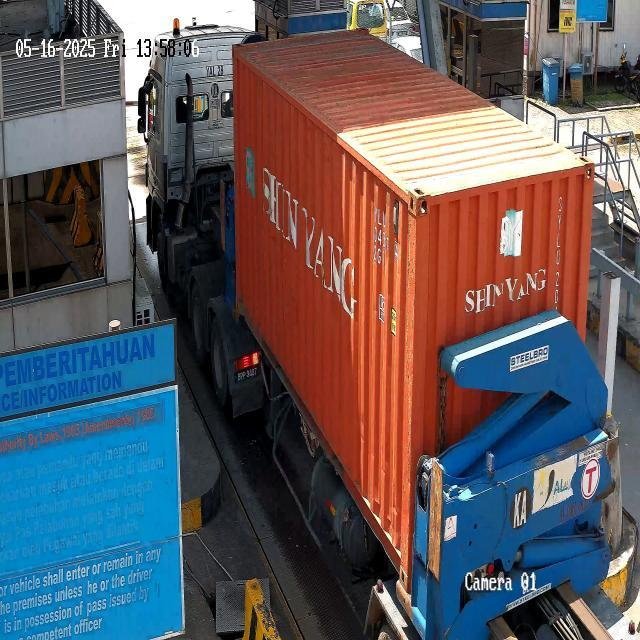ISO: (372, 250, 388, 270)
container_number: (368, 208, 408, 260)
